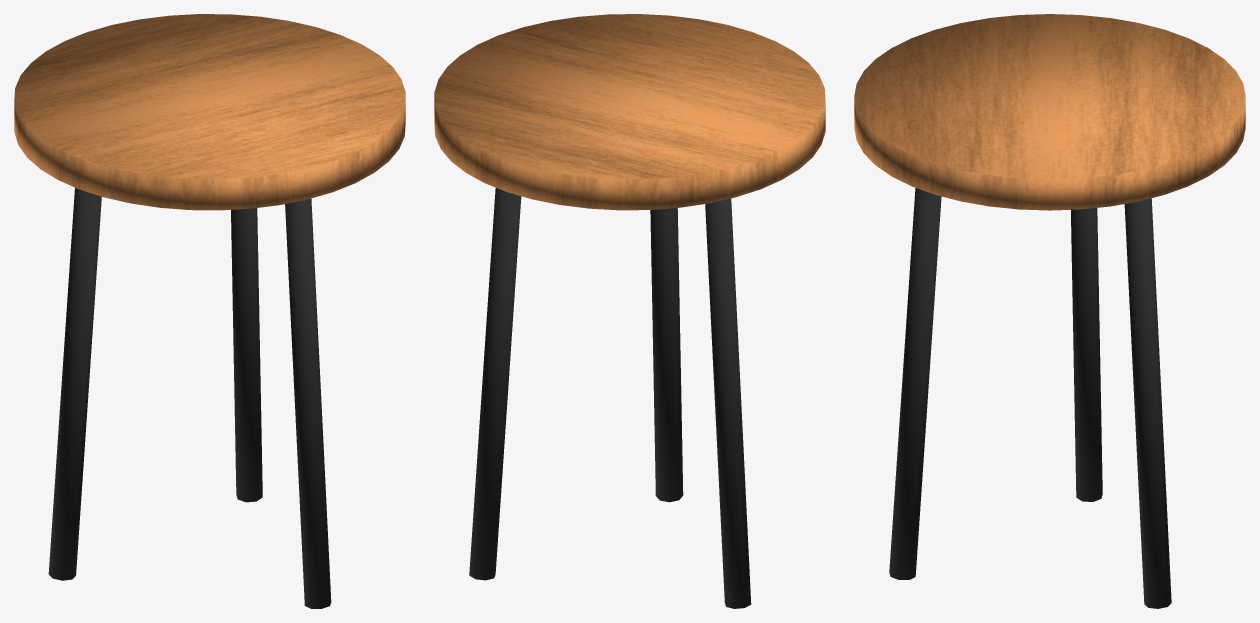
The model's file is lounge.side-table.glb.
The picture shows the model from 3 angles, left to right: view 1: azimuth 30°, elevation 25°; view 2: azimuth 150°, elevation 25°; view 3: azimuth 270°, elevation 25°; orthographic projection.
Visible parts, largest first — view 1: lounge.side-table.001; view 2: lounge.side-table.001; view 3: lounge.side-table.001.
Part boxes in pixels (left/top/right/bottom): lounge.side-table.001: left=14, top=14, right=405, bottom=608; lounge.side-table.001: left=434, top=14, right=825, bottom=608; lounge.side-table.001: left=854, top=14, right=1245, bottom=608.
Bounding box in the file's own units: 0.4 × 0.5209 × 0.4.
Materials: 2 (1 with a texture image).
